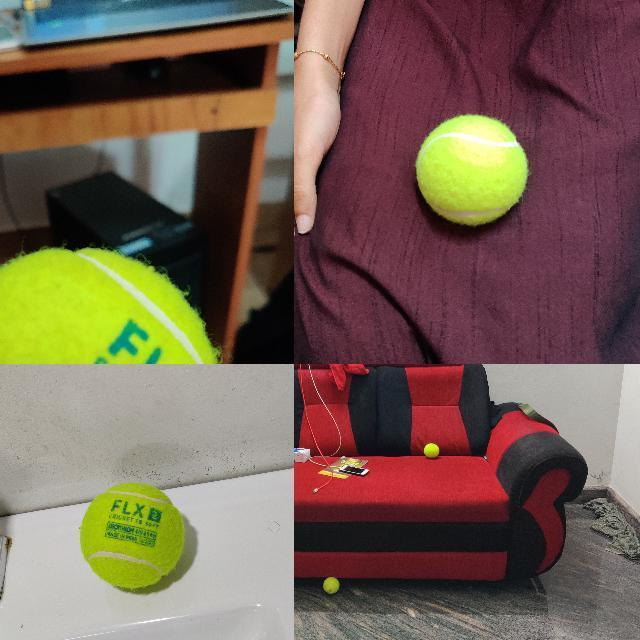tennis-ball: (0, 247, 217, 363), (416, 116, 526, 224), (78, 483, 184, 590), (323, 577, 340, 594), (423, 442, 439, 458)
